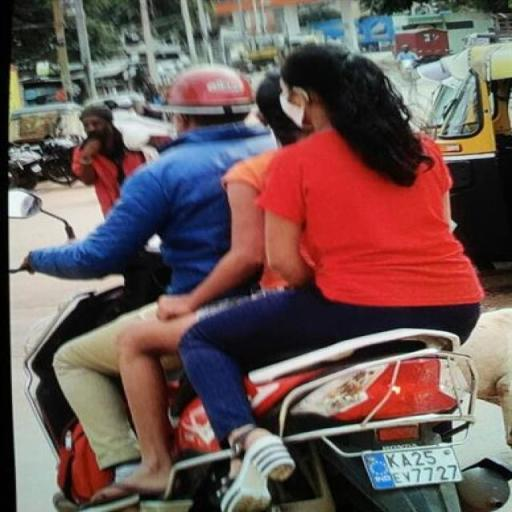tripple riding: (9, 44, 509, 334)
